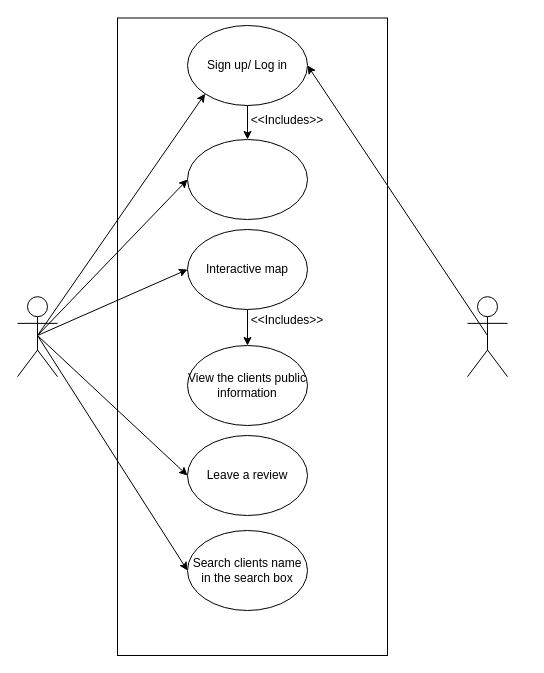
This 544x673 diagram has some shape labels left out. Each missing label, with the box of its shape:
<<service>> Authentication: (466, 296, 508, 377)
Send invitations to other clients: (186, 138, 308, 220)
User: (16, 296, 58, 377)
